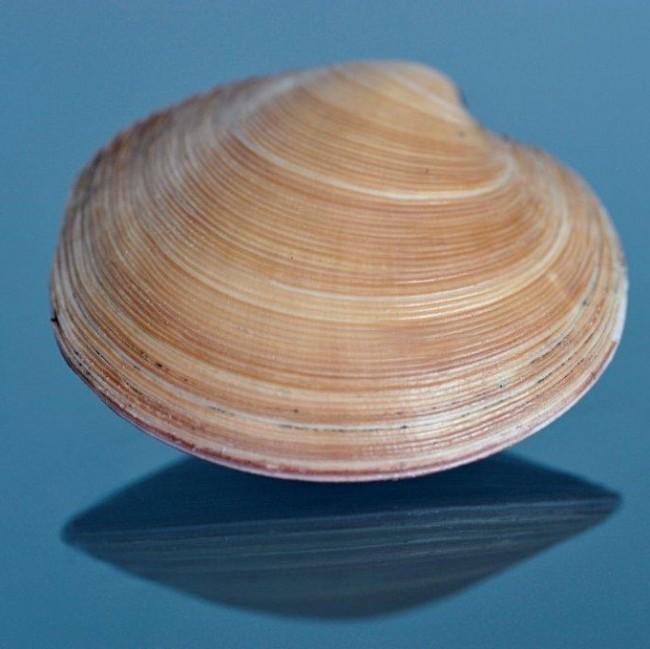cockle: (45, 49, 632, 485)
